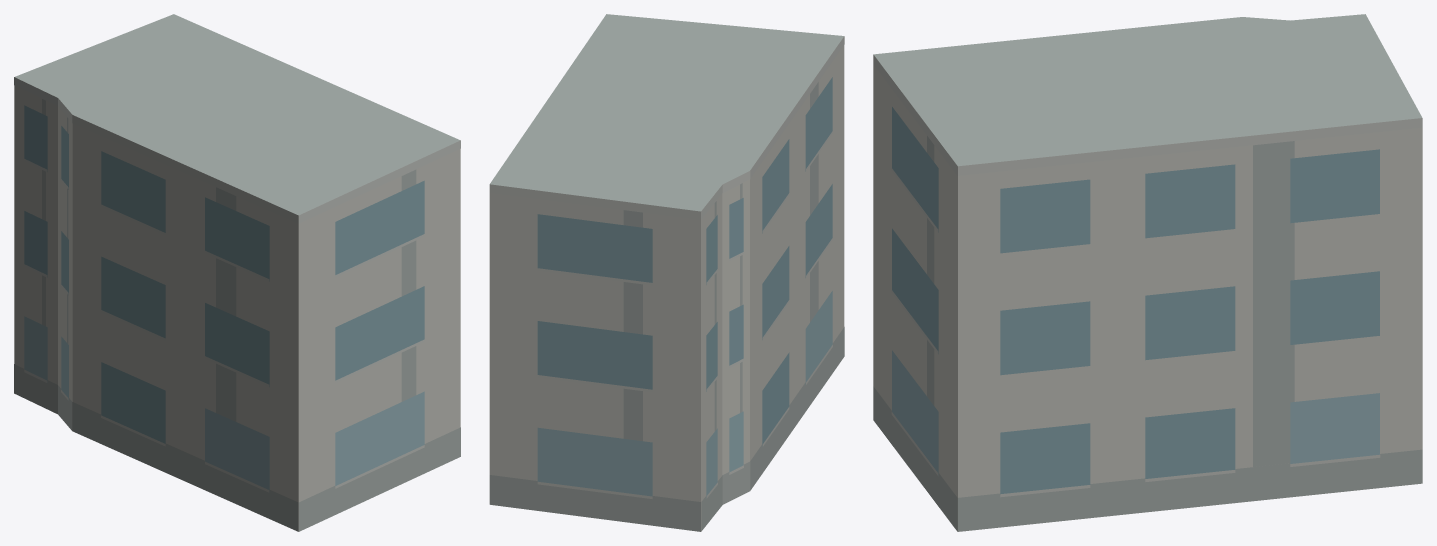
File: residential-bec1d0a4-a339-41ea-a3f6-130f94348c72.glb
3 renders of one model, left to right at view 1: azimuth 30°, elevation 25°; view 2: azimuth 150°, elevation 25°; view 3: azimuth 270°, elevation 25°, orthographic. The views are drawn at different scales.
Visible parts, largest first — view 1: residential-bec1d0a4-a339-41ea-a3f6-130f94348c72.tmp; view 2: residential-bec1d0a4-a339-41ea-a3f6-130f94348c72.tmp; view 3: residential-bec1d0a4-a339-41ea-a3f6-130f94348c72.tmp.
Boxes of the visible parts, bbox=[...] form: residential-bec1d0a4-a339-41ea-a3f6-130f94348c72.tmp: bbox=[14, 14, 460, 531]; residential-bec1d0a4-a339-41ea-a3f6-130f94348c72.tmp: bbox=[489, 14, 844, 531]; residential-bec1d0a4-a339-41ea-a3f6-130f94348c72.tmp: bbox=[873, 14, 1422, 531].
Bounding box in the file's own units: 8.18 × 9.15 × 12.47.
